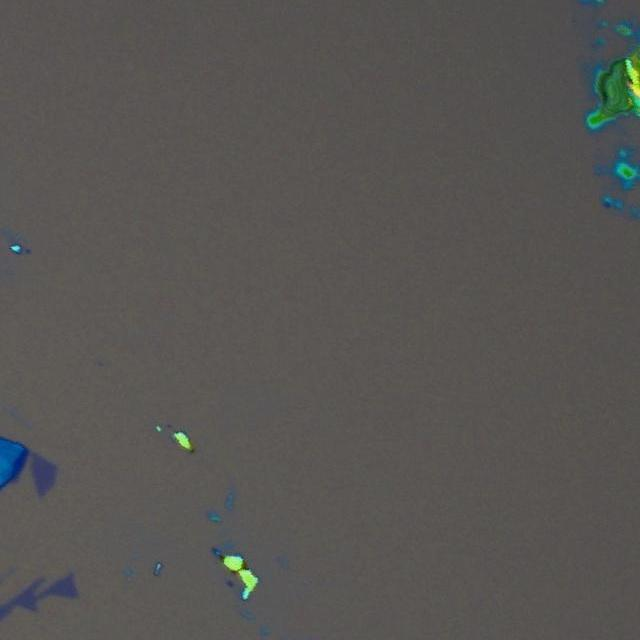monolayer-eWW4: (0, 570, 85, 640), (28, 448, 58, 498)
